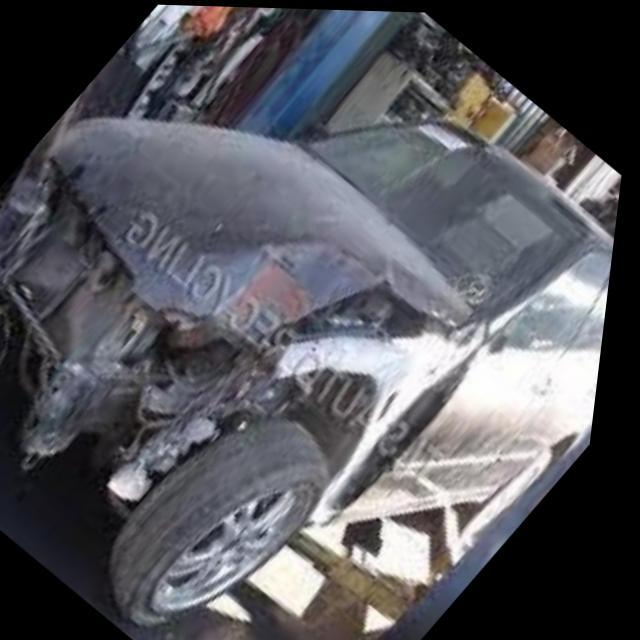no part: (0, 147, 488, 526)
